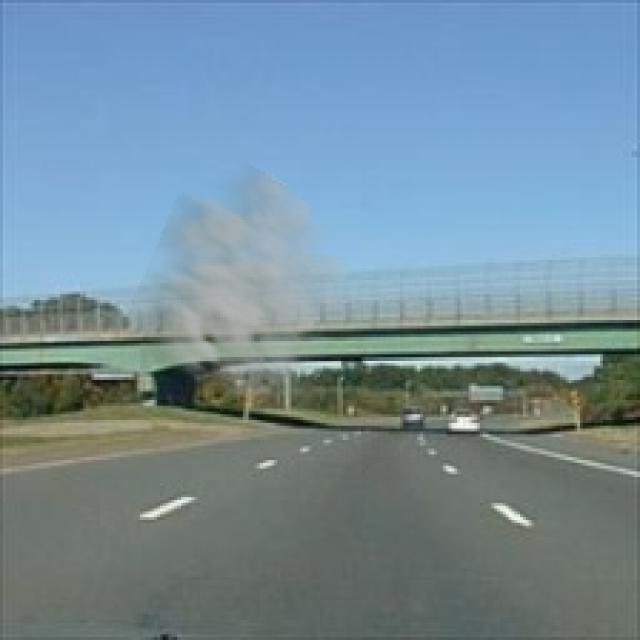Smoke: (117, 157, 354, 417)
